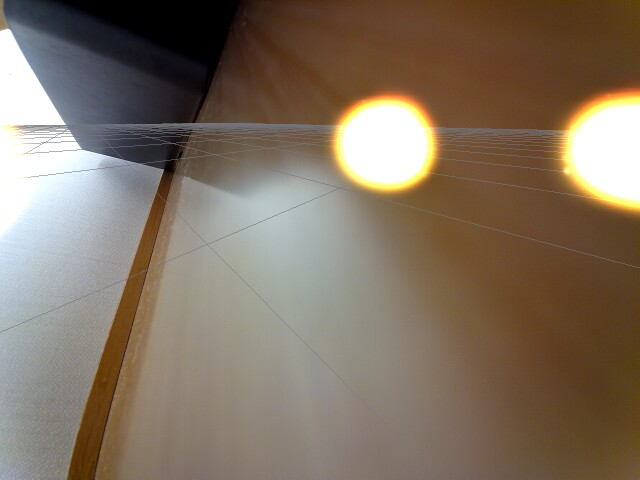fire: (331, 92, 439, 195), (561, 89, 637, 219), (0, 122, 34, 247)
